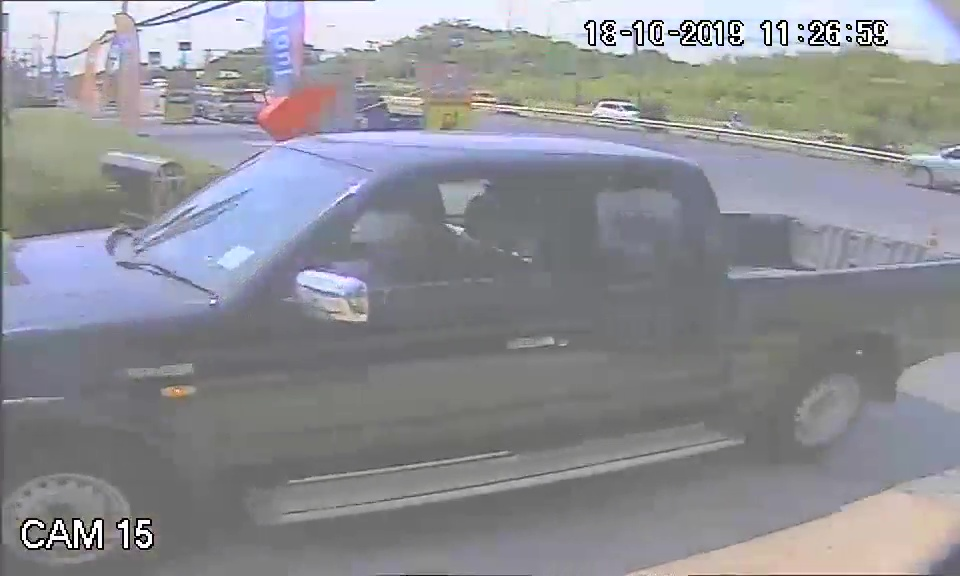pickup: (7, 128, 874, 512)
